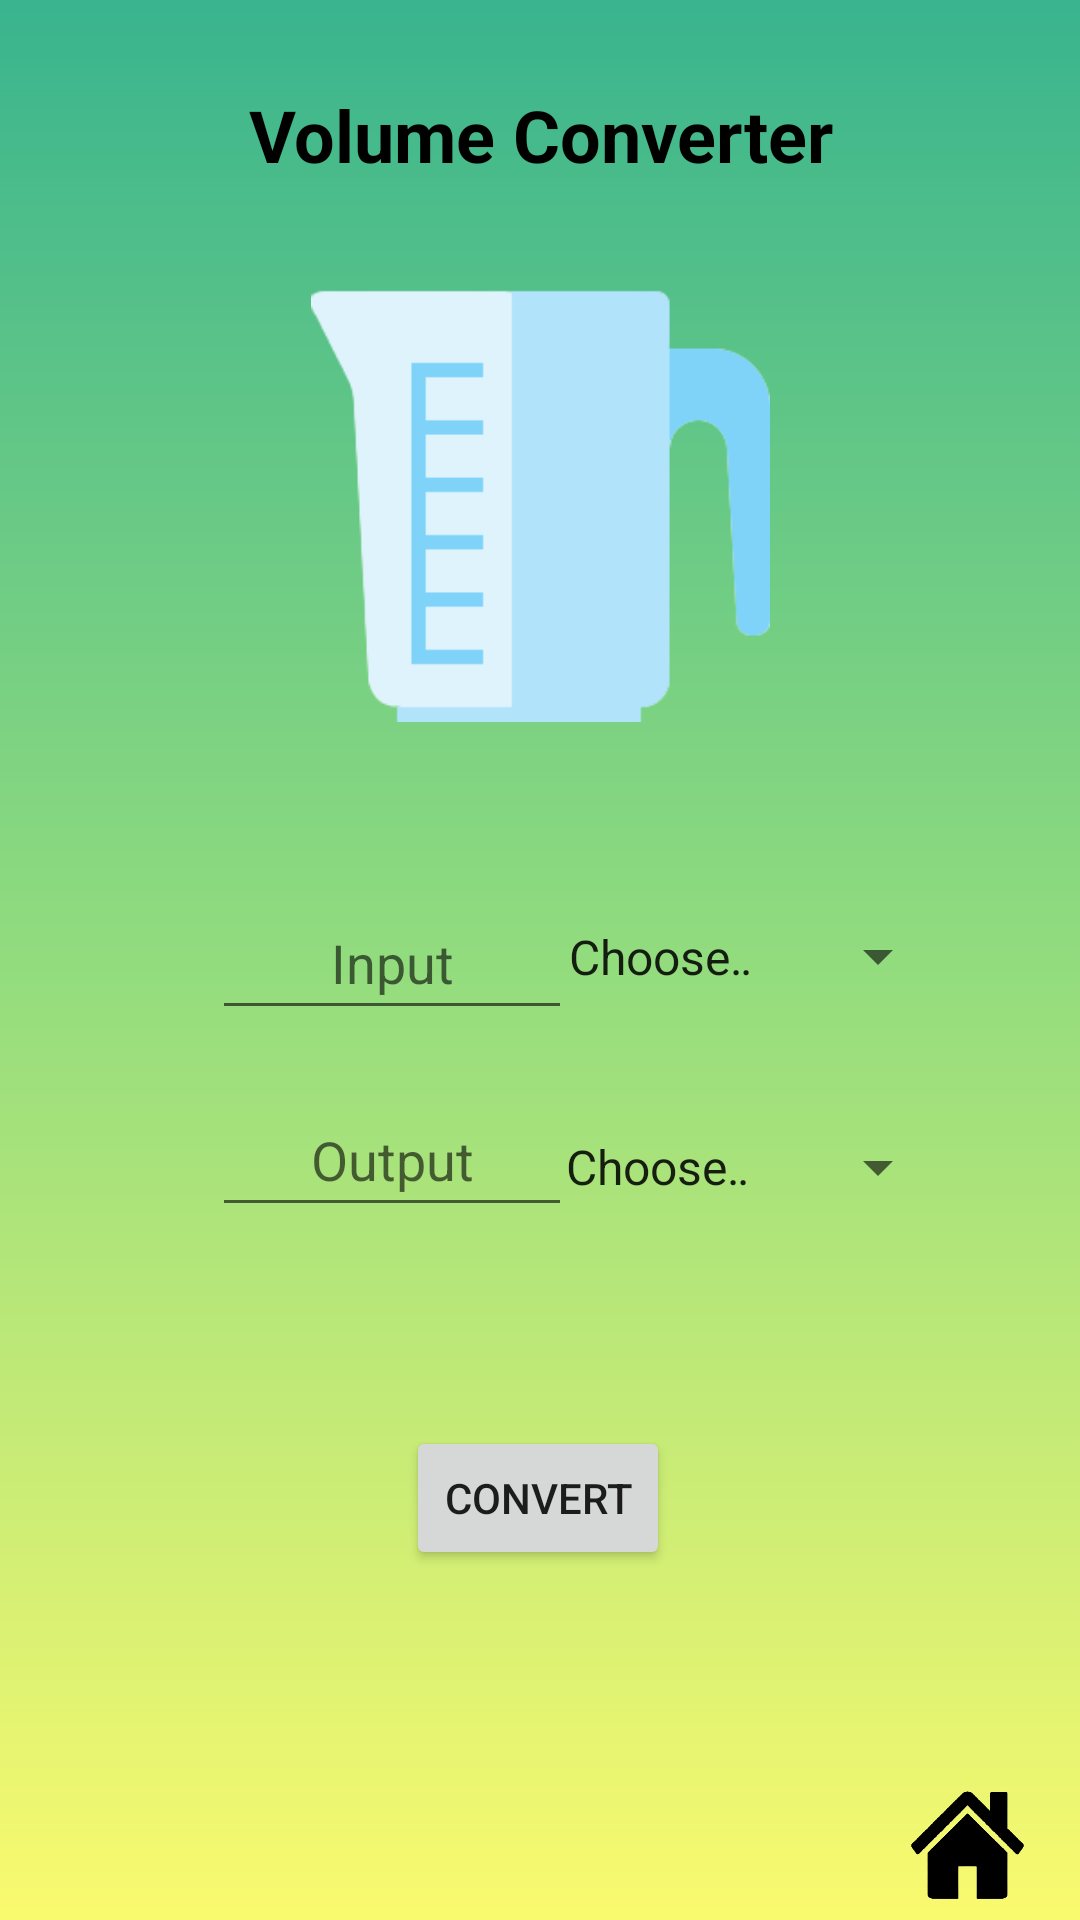

Point at icon controls on the screen. Image size 1080 × 1920, points as [x,y].
homeicon: [967,1845]
